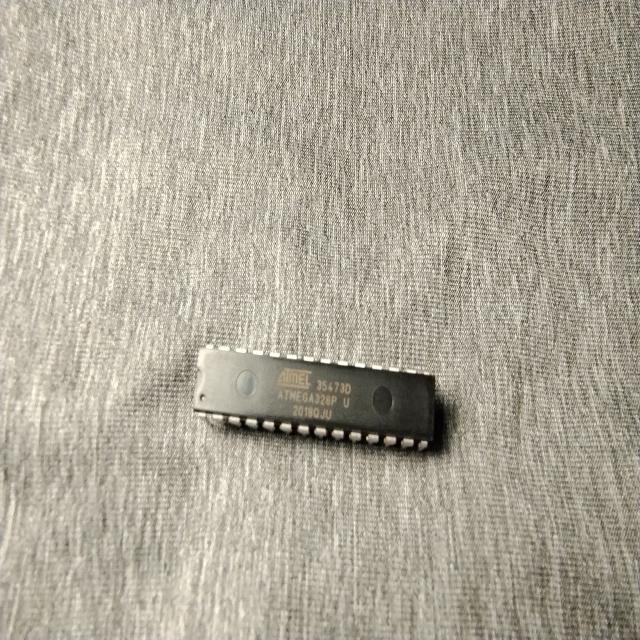atmega: (190, 343, 438, 455)
